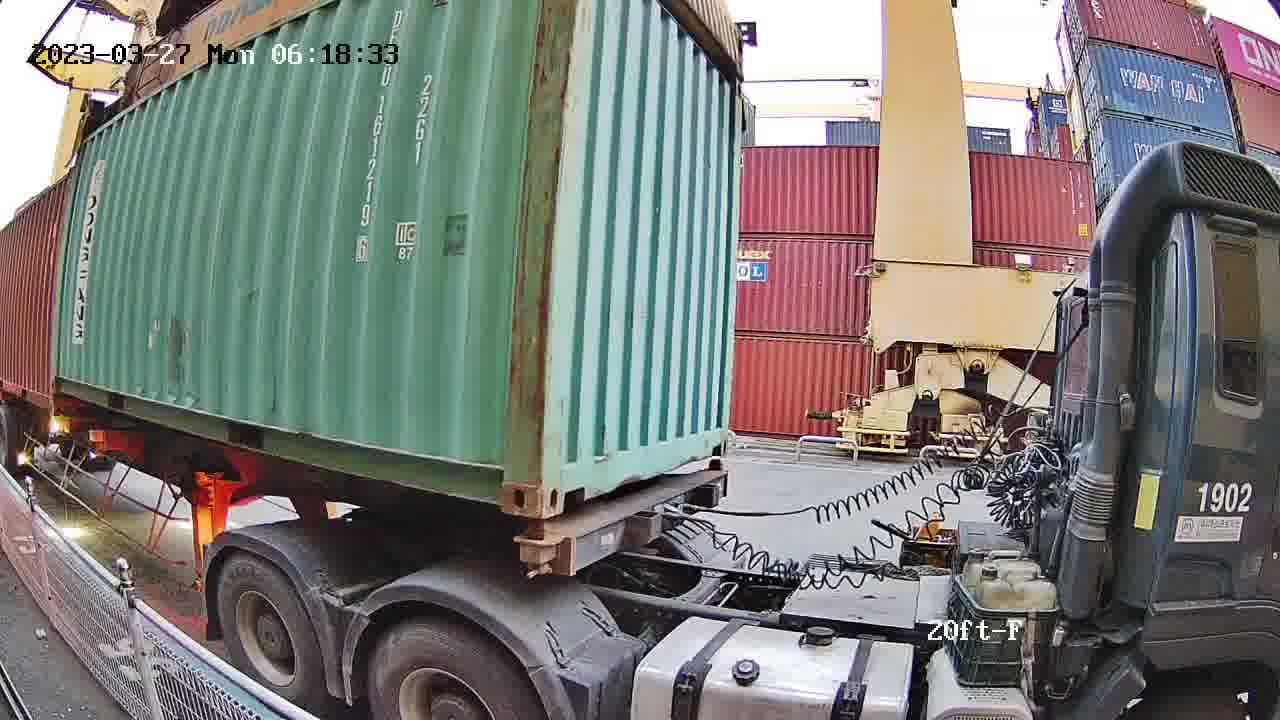Chassis: (515, 467, 728, 574)
Cone: (514, 522, 562, 580)
Hole_L: (541, 441, 596, 519)
Hole_R: (469, 437, 544, 520), (705, 422, 730, 458)
Tire: (217, 556, 318, 710), (369, 623, 526, 716)
